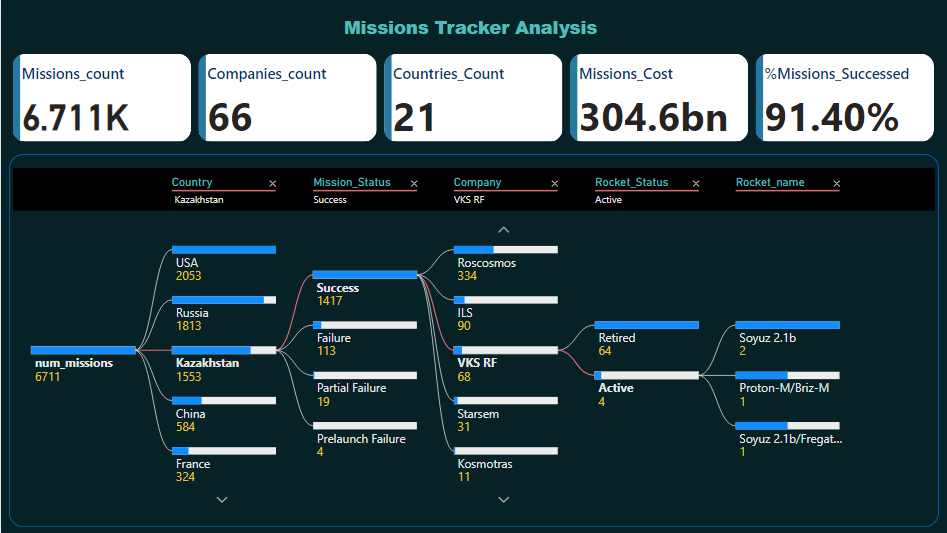

What the dashboard file says about the page in this screenshot:
{"tool":"powerbi","page":{"name":"Missions_Tracker","canvas":[1280,720],"ordinal":5},"visuals":[{"type":"shape","box":[10.4,207.5,1256.7,504.5],"z":0},{"type":"textbox","box":[176.1,14.9,925.4,52.2],"z":1000},{"type":"cardVisual","fields":{"Data":["KPIs.num_missions","KPIs.num_companies","KPIs.num_country_launch","KPIs.missions_cost","KPIs.%Missions_Successed"]},"box":[10.4,67.2,1256.7,129.9],"z":2000},{"type":"decompositionTreeVisual","fields":{"Analyze":["KPIs.num_missions"],"ExplainBy":["Location_Dim.Country","MissionStatus_Dim.Mission_Status","Company_Dim.Company","space_mission_launches_Fact.Rocket_Status","Rocket_Dim.Rocket_name"]},"box":[10.1,221.7,1256.5,488.4],"z":3000}]}

Visuals, with their boxes in screenshot pixels (x1, y1, x2, y2), scaled from the page's 1280x720 canvas onto the 947x533 screenshot:
shape: (8,154,937,527)
textbox: (130,11,815,50)
cardVisual - KPIs.num_missions x KPIs.num_companies: (8,50,937,146)
decompositionTreeVisual - KPIs.num_missions x Location_Dim.Country: (7,164,937,526)
